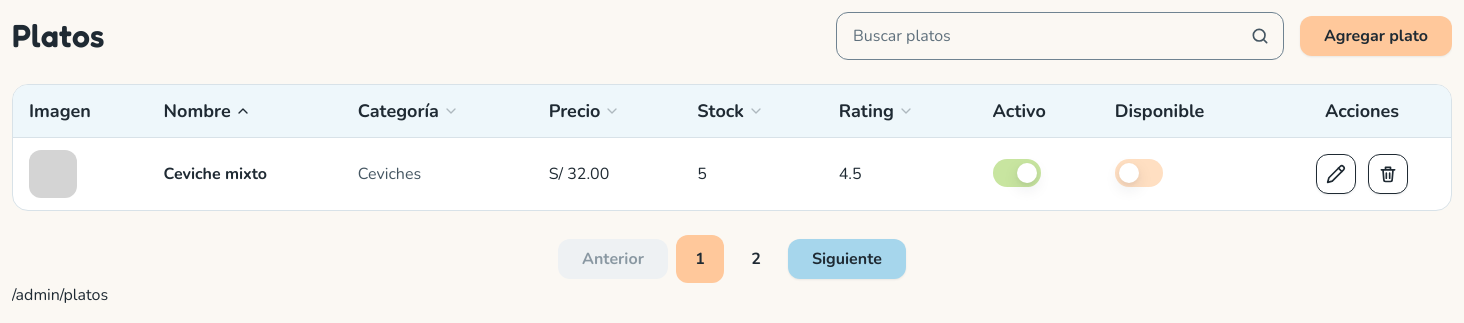
Test: AdminProductsPage › pasar de página cambia ?page=
The image size is (1464, 323).
Click the button "Siguiente" at (847, 259), box [788,239,906,279]
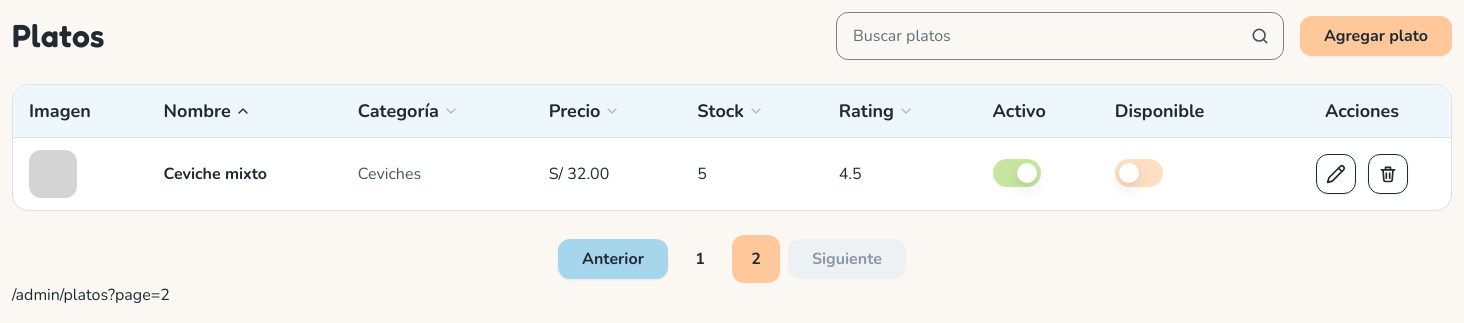
expect the text with test id "location" reads "/admin/platos?page=2": met, box [12,284,170,306]
